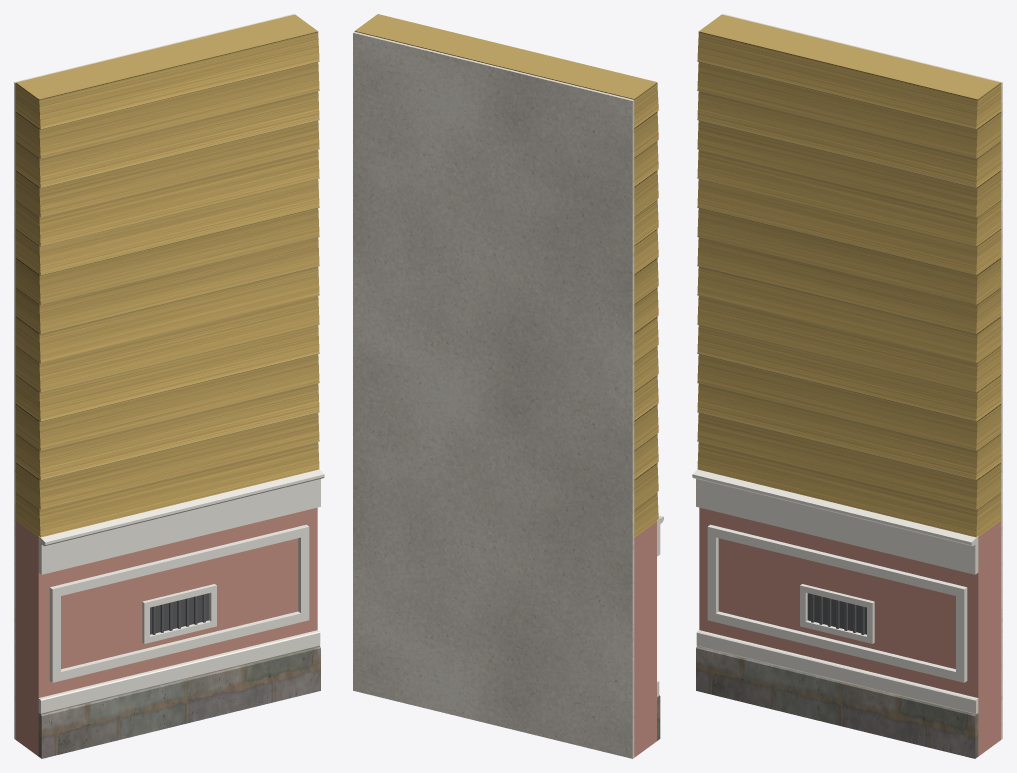
The model's file is f_g_plain_a.glb.
The picture shows the model from 3 angles, left to right: view 1: azimuth 30°, elevation 25°; view 2: azimuth 150°, elevation 25°; view 3: azimuth 330°, elevation 25°; orthographic projection.
Visible parts, largest first — view 1: f_g_plain_a_siding_a, f_g_plain_a_acc_a, f_g_plain_a_trim, f_g_plain_a_plinth, f_g_plain_a_plaster, f_g_plain_a_dark, f_g_plain_a_iron; view 2: f_g_plain_a_plaster, f_g_plain_a_siding_a, f_g_plain_a_acc_a; view 3: f_g_plain_a_siding_a, f_g_plain_a_acc_a, f_g_plain_a_trim, f_g_plain_a_plinth, f_g_plain_a_plaster, f_g_plain_a_dark, f_g_plain_a_iron.
Part boxes in pixels (<box>): f_g_plain_a_siding_a: <box>16,14,319,537</box>; f_g_plain_a_acc_a: <box>16,507,317,756</box>; f_g_plain_a_trim: <box>38,469,324,713</box>; f_g_plain_a_plinth: <box>38,646,320,758</box>; f_g_plain_a_plaster: <box>14,14,293,739</box>; f_g_plain_a_dark: <box>150,593,209,634</box>; f_g_plain_a_iron: <box>152,594,205,634</box>; f_g_plain_a_plaster: <box>353,31,634,758</box>; f_g_plain_a_siding_a: <box>354,14,658,537</box>; f_g_plain_a_acc_a: <box>634,522,656,757</box>; f_g_plain_a_siding_a: <box>697,14,1000,537</box>; f_g_plain_a_acc_a: <box>699,507,1000,756</box>; f_g_plain_a_trim: <box>692,469,978,713</box>; f_g_plain_a_plinth: <box>696,646,978,758</box>; f_g_plain_a_plaster: <box>723,14,1002,739</box>; f_g_plain_a_dark: <box>807,593,866,634</box>; f_g_plain_a_iron: <box>811,594,864,634</box>.
Bounding box in the file's own units: 2 × 4.5 × 0.385.
Materials: 7 (3 with a texture image).
